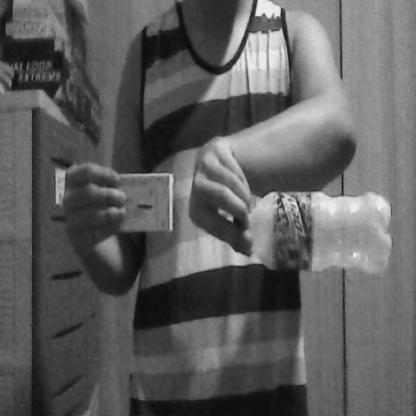Plastic Bottle: (224, 178, 401, 285)
